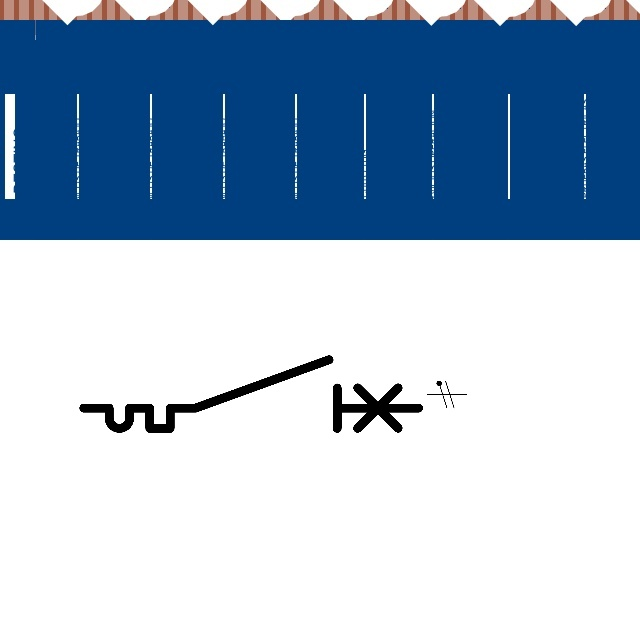interruptor_termomagnetico: (75, 351, 427, 437)
